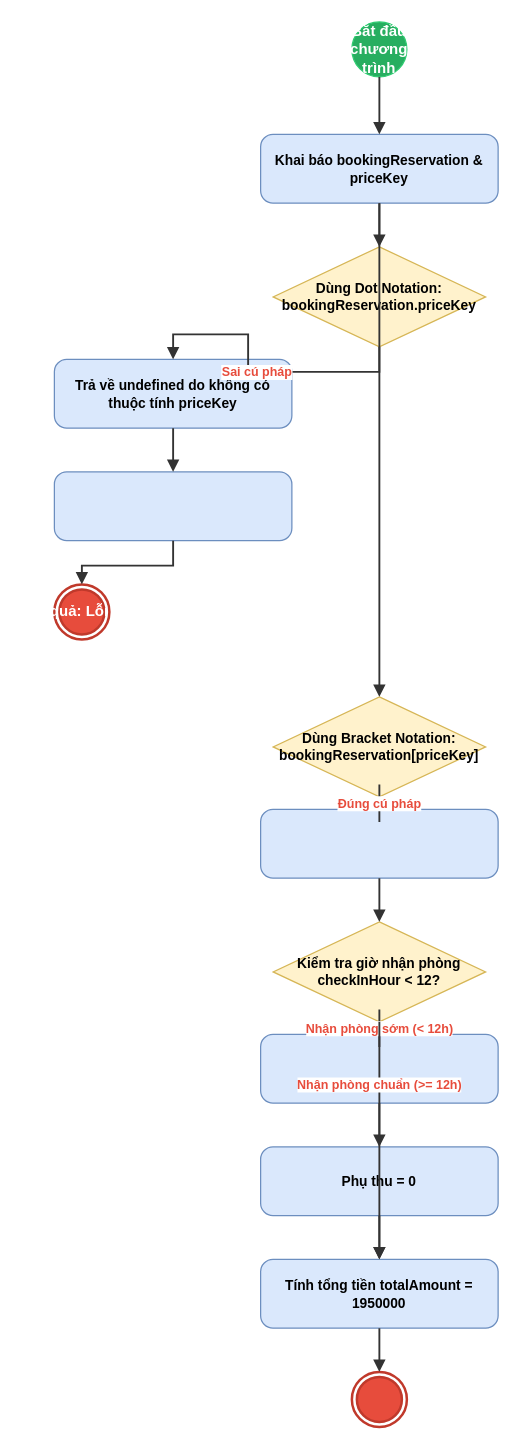
The diagram is 520 pixels wide and 1450 high, and some of its shapes have lost their labels. The box of each missing label's shape, as (x1, y1, x2, y2) in pixels:
basePrice = undefined -> Kết quả tính toán bị NaN: (53, 471, 292, 541)
Kết thúc: In hóa đơn chính xác: (350, 1370, 408, 1428)
Lấy chính xác giá trị 1500000 từ khóa động: (259, 808, 498, 878)
Tính phụ thu 30% = 450000: (259, 1033, 498, 1103)
